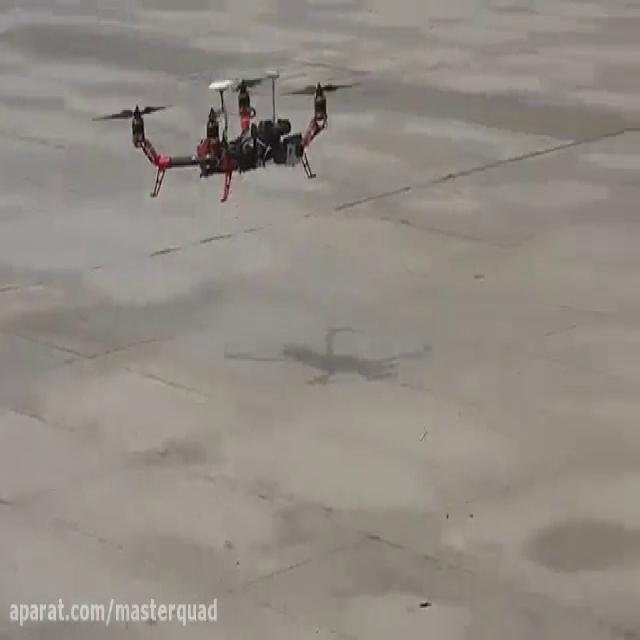drone: (84, 64, 369, 210)
